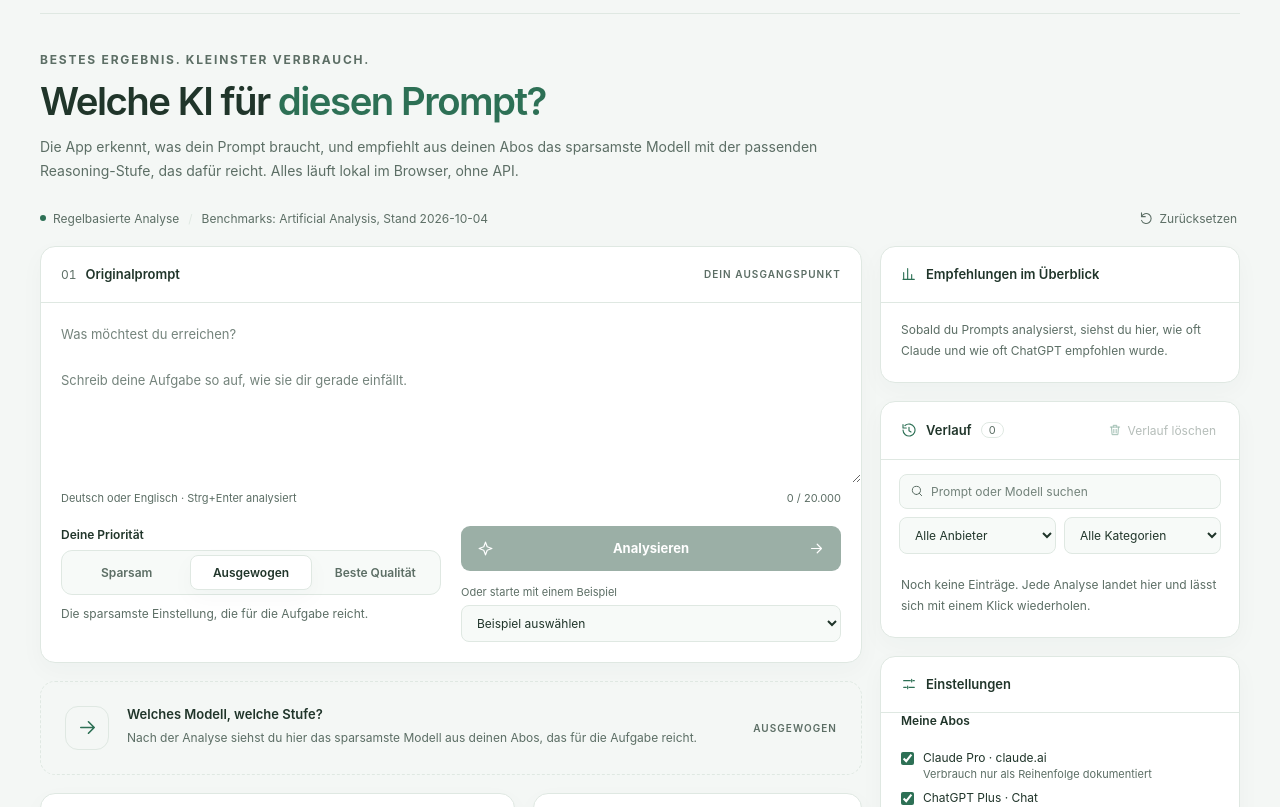
PromptRouter interactions › copies the visible text and honestly handles clipboard refusal
Replace the text in the text box named "Originalprompt" with "2 + 2" at [451, 393], box [41,303,861,483]
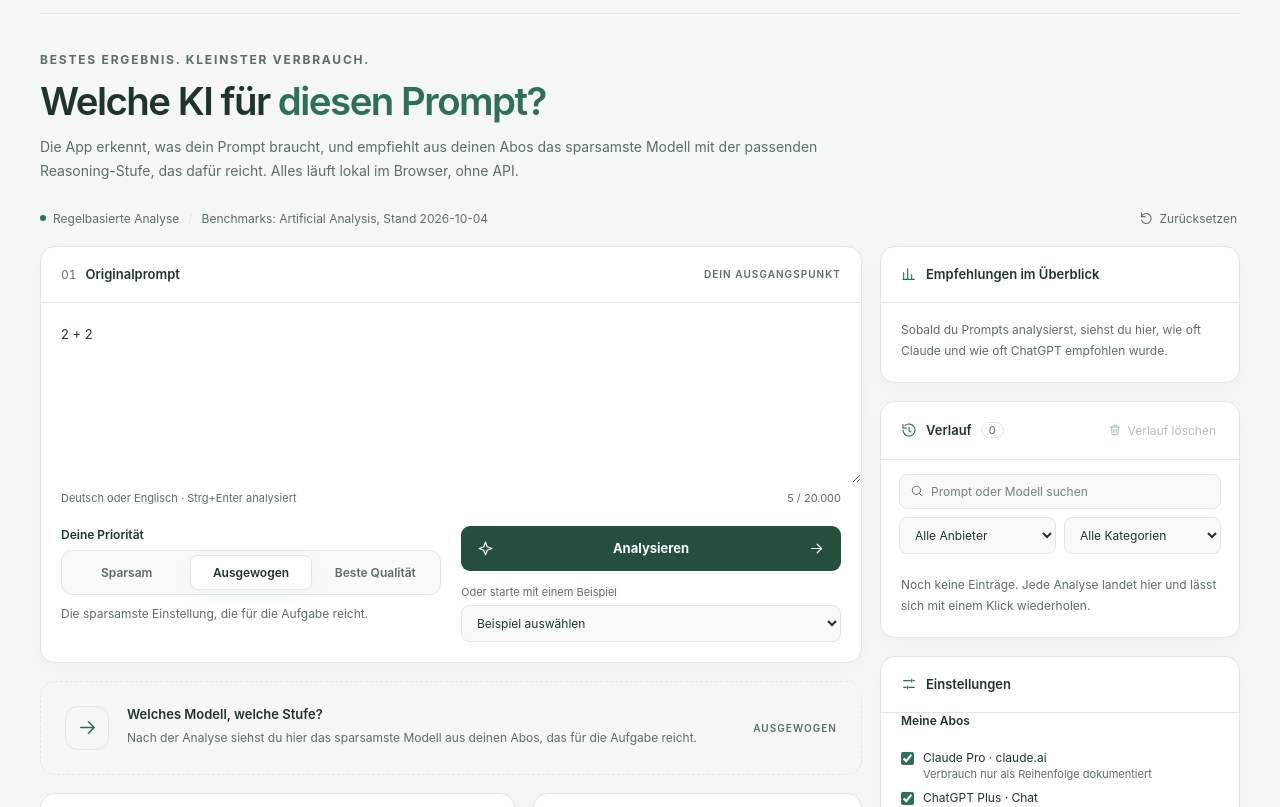
Click the button "Analysieren" at [651, 548], box [461,526,841,571]
(page scrolled)
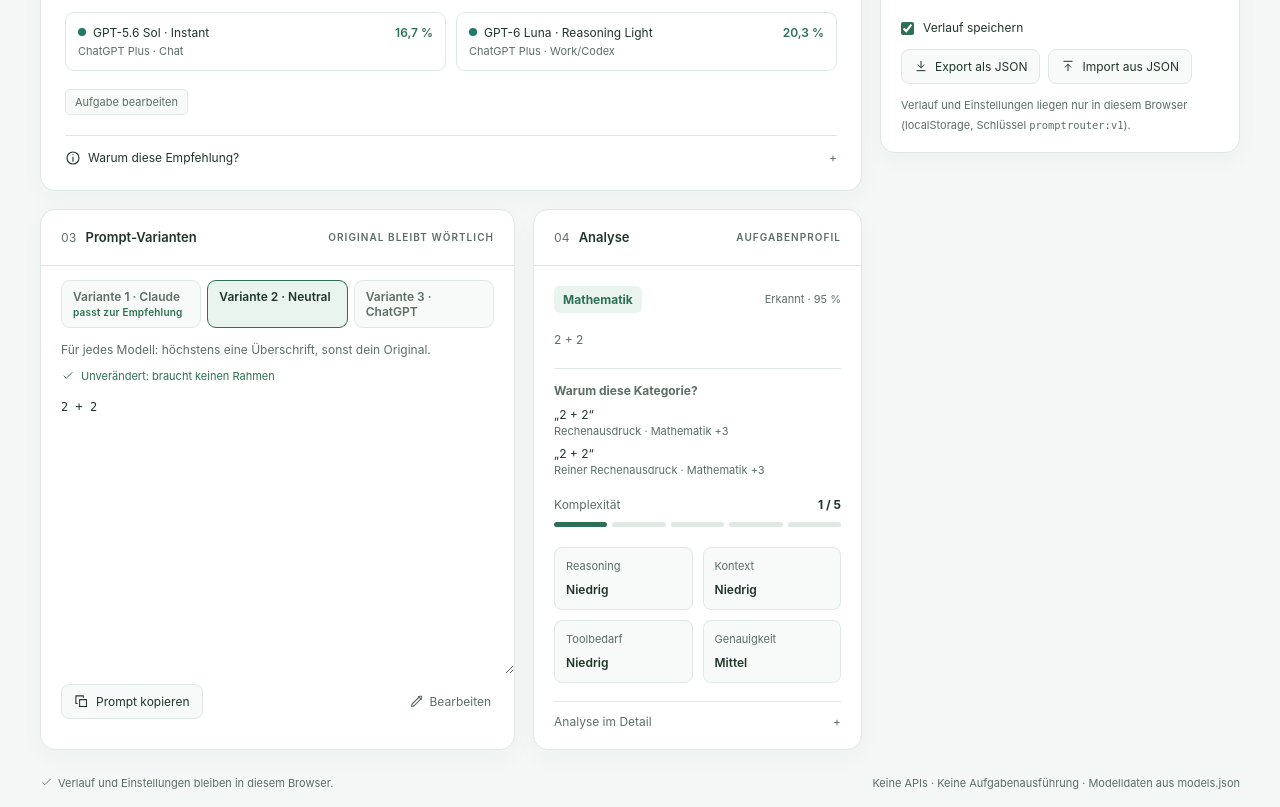
Click the button "Prompt kopieren" at [132, 701], box [61,684,202,719]
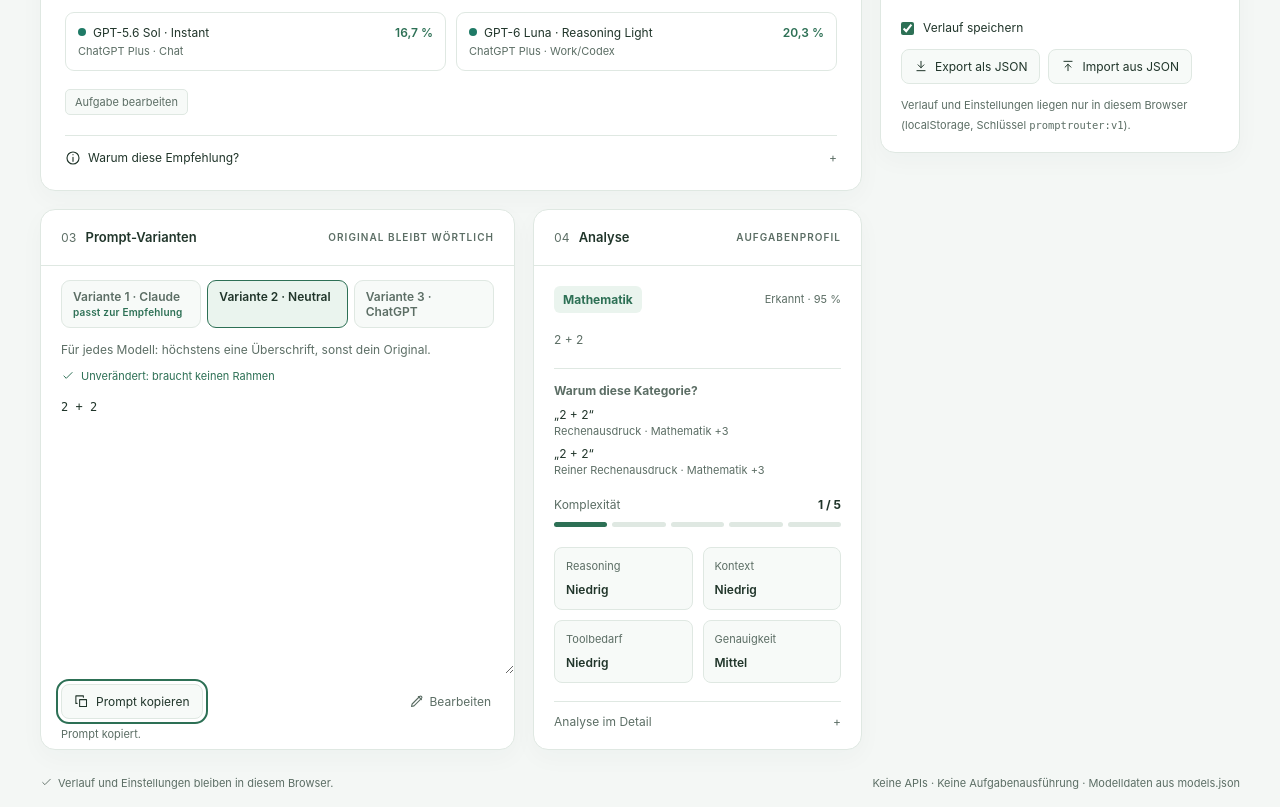
expect the text "Prompt kopiert." is shown: met, box [61,727,141,741]
Click the button "Prompt kopieren" at [132, 701], box [61,684,202,719]
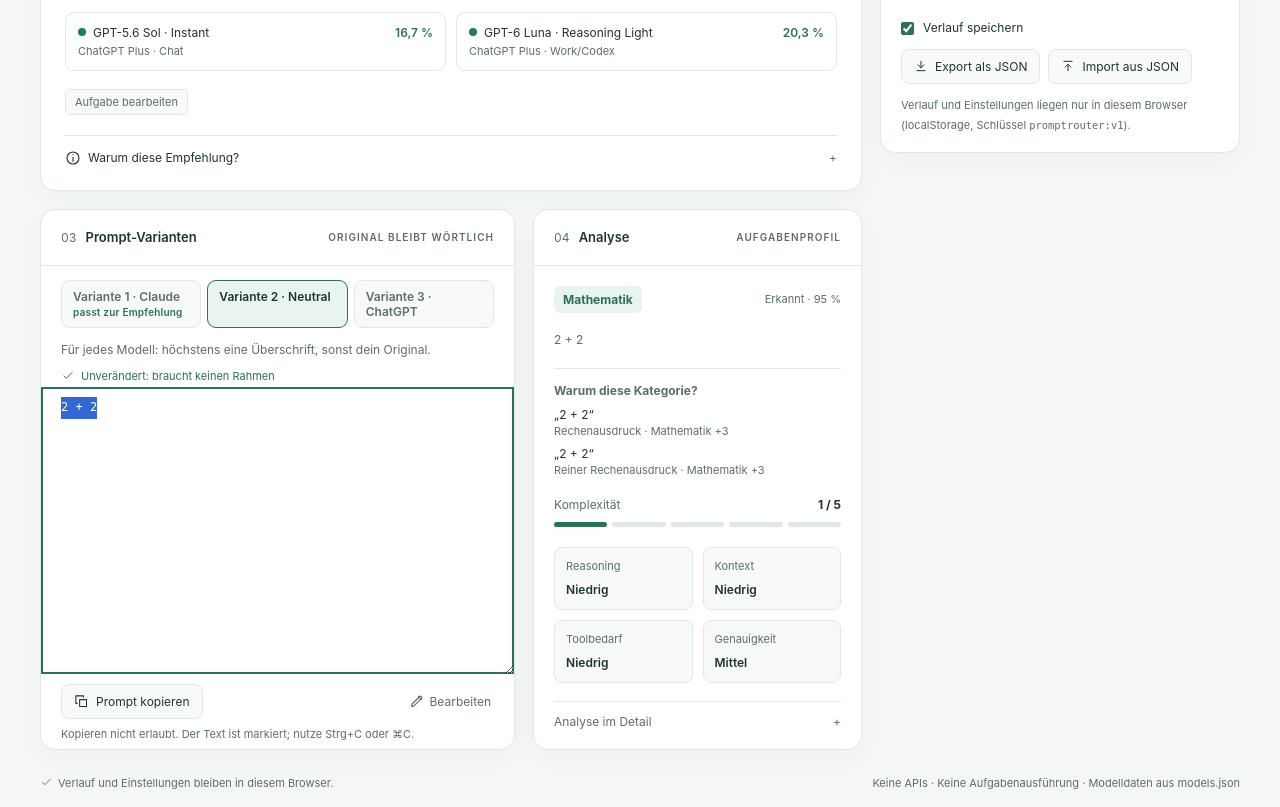
expect the text "Kopieren nicht erlaubt. Der Text ist markiert; nutze Strg+C oder ⌘C." is shown: met, box [61,727,414,741]
